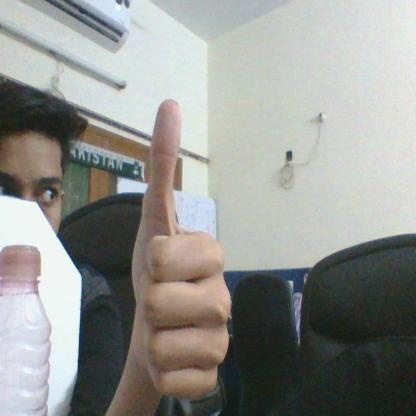thumbs-up: (128, 96, 240, 399)
